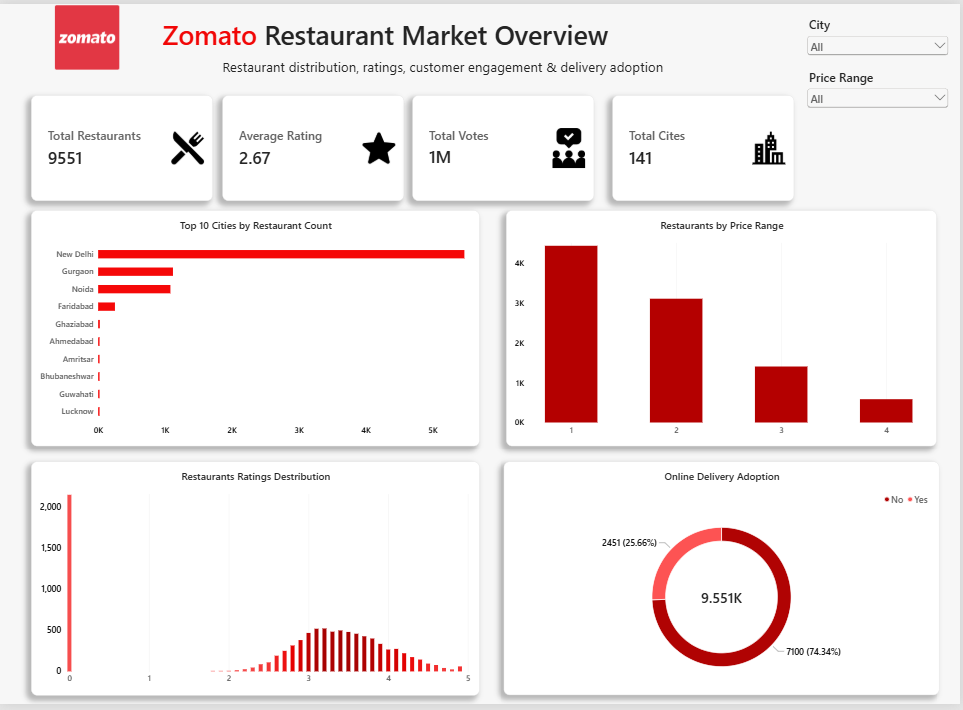

The page's visual inventory and layout, read from the dashboard file:
{"tool":"powerbi","page":{"name":"Market Overview","canvas":[1920,1400],"ordinal":0},"visuals":[{"type":"cardVisual","fields":{"Data":["CountNonNull(zomato_analysis zomato_cleaned.Restaurant_ID)"]},"box":[62,181.3,363,211],"z":0},{"type":"cardVisual","fields":{"Data":["Avg(zomato_analysis zomato_cleaned.Aggregate_rating)"]},"box":[446.2,181.3,363,211],"z":1000},{"type":"cardVisual","fields":{"Data":["Sum(zomato_analysis zomato_cleaned.Votes)"]},"box":[825.5,181.3,363,211],"z":2000},{"type":"cardVisual","fields":{"Data":["Count(zomato_analysis zomato_cleaned.City)"]},"box":[1223.9,181.3,363,211],"z":3000},{"type":"clusteredBarChart","title":"Top 10 Cities by Restaurant Count","fields":{"Category":["zomato_analysis vw_city_restaurant_analysis.city"],"Y":["Sum(zomato_analysis vw_city_restaurant_analysis.restaurant_count)"]},"box":[62,412.7,897.1,472.4],"z":4000},{"type":"clusteredColumnChart","title":"Restaurants by Price Range","fields":{"Category":["zomato_analysis vw_price_range_analysis.Price_range"],"Y":["Sum(zomato_analysis vw_price_range_analysis.restaurant_count)"]},"box":[1011.6,412.7,861.1,472.3],"z":5000},{"type":"clusteredColumnChart","title":"Restaurants Ratings Destribution","fields":{"Category":["zomato_analysis zomato_cleaned.Aggregate_rating"],"Y":["CountNonNull(zomato_analysis zomato_cleaned.Restaurant_ID)"]},"box":[62,913.8,897.1,467.6],"z":6000},{"type":"donutChart","title":"Online Delivery Adoption","fields":{"Y":["CountNonNull(zomato_analysis zomato_cleaned.Restaurant_ID)"],"Category":["zomato_analysis zomato_cleaned.Has_Online_delivery"]},"box":[1006.8,913.8,871.5,467.1],"z":7000},{"type":"slicer","fields":{"Values":["zomato_analysis zomato_cleaned.City"]},"box":[1610.4,26.2,291.1,131.2],"z":8000},{"type":"slicer","fields":{"Values":["zomato_analysis zomato_cleaned.Price_range"]},"box":[1610.4,131.2,291.1,131.2],"z":9000},{"type":"textbox","box":[324.5,26.2,1080.8,78.7],"z":10000},{"type":"textbox","box":[446.2,107.4,899.5,47.7],"z":11000},{"type":"image","box":[26.2,2.4,298.2,128.8],"z":12000}]}

Visuals, with their boxes in screenshot pixels (x1, y1, x2, y2), scaled from the page's 1920x1400 canvas onto the 963x710 screenshot:
cardVisual - CountNonNull(zomato_analysis zomato_cleaned.Restaurant_ID): 31:92:213:199
cardVisual - Avg(zomato_analysis zomato_cleaned.Aggregate_rating): 224:92:406:199
cardVisual - Sum(zomato_analysis zomato_cleaned.Votes): 414:92:596:199
cardVisual - Count(zomato_analysis zomato_cleaned.City): 614:92:796:199
"Top 10 Cities by Restaurant Count" clusteredBarChart: 31:209:481:449
"Restaurants by Price Range" clusteredColumnChart: 507:209:939:449
"Restaurants Ratings Destribution" clusteredColumnChart: 31:463:481:701
"Online Delivery Adoption" donutChart: 505:463:942:700
slicer - zomato_analysis zomato_cleaned.City: 808:13:954:80
slicer - zomato_analysis zomato_cleaned.Price_range: 808:67:954:133
textbox: 163:13:705:53
textbox: 224:54:675:79
image: 13:1:163:67
